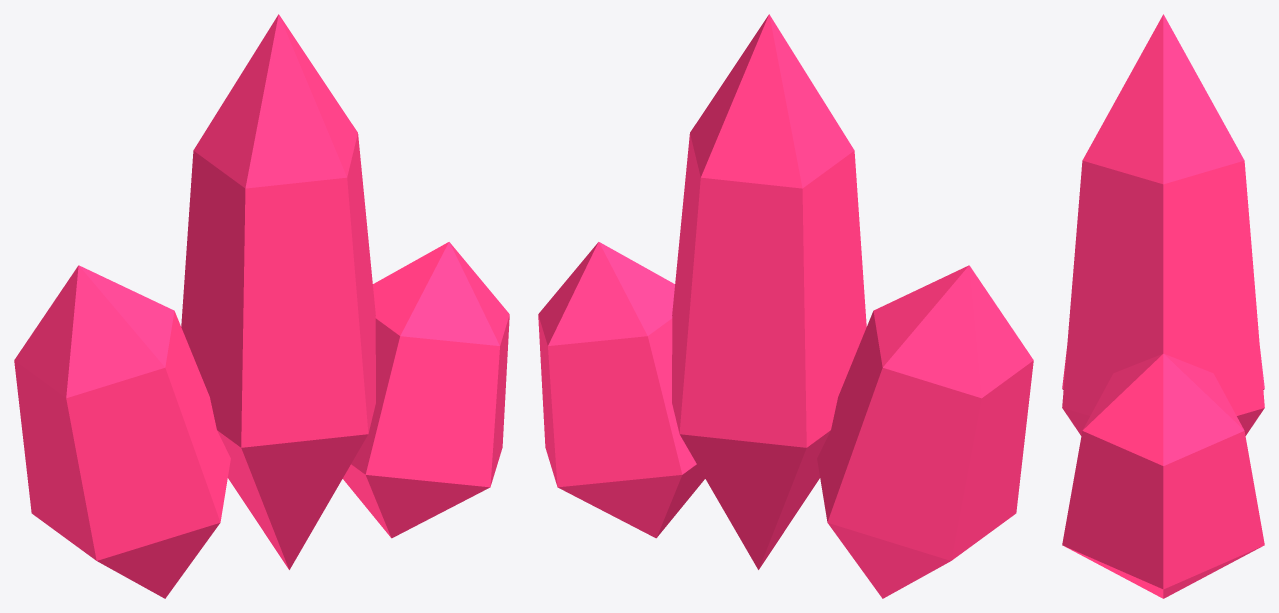
File: ore-13.glb
3 views of the same model, side by side, from view 1: azimuth 30°, elevation 25°; view 2: azimuth 150°, elevation 25°; view 3: azimuth 270°, elevation 25° (orthographic). The views are drawn at different scales.
Parts seen in each view (by area): view 1: Ruby prismatic cluster.001, Ruby prismatic cluster, Ruby prismatic cluster.002; view 2: Ruby prismatic cluster.001, Ruby prismatic cluster, Ruby prismatic cluster.002; view 3: Ruby prismatic cluster.001, Ruby prismatic cluster.002.
Boxes of the visible parts, x1,y1,x2,y2 form: Ruby prismatic cluster.001: [181, 14, 375, 569]; Ruby prismatic cluster: [14, 265, 230, 598]; Ruby prismatic cluster.002: [342, 242, 509, 538]; Ruby prismatic cluster.001: [672, 14, 866, 569]; Ruby prismatic cluster: [817, 265, 1033, 598]; Ruby prismatic cluster.002: [538, 242, 705, 538]; Ruby prismatic cluster.001: [1062, 14, 1264, 435]; Ruby prismatic cluster.002: [1062, 353, 1264, 598].
Bounding box in the file's own units: 1.27 × 1.45 × 0.4945.
